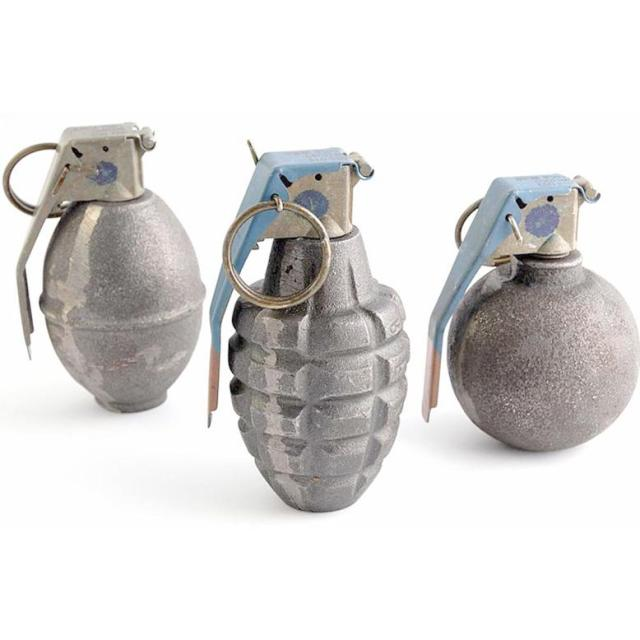grenade: (208, 140, 411, 516), (422, 174, 640, 457), (3, 124, 208, 418)
